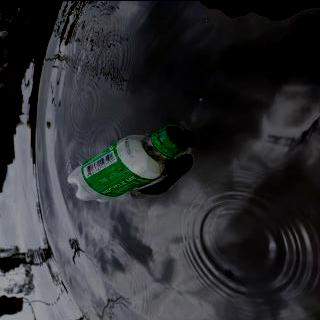bottle: (65, 123, 192, 203)
